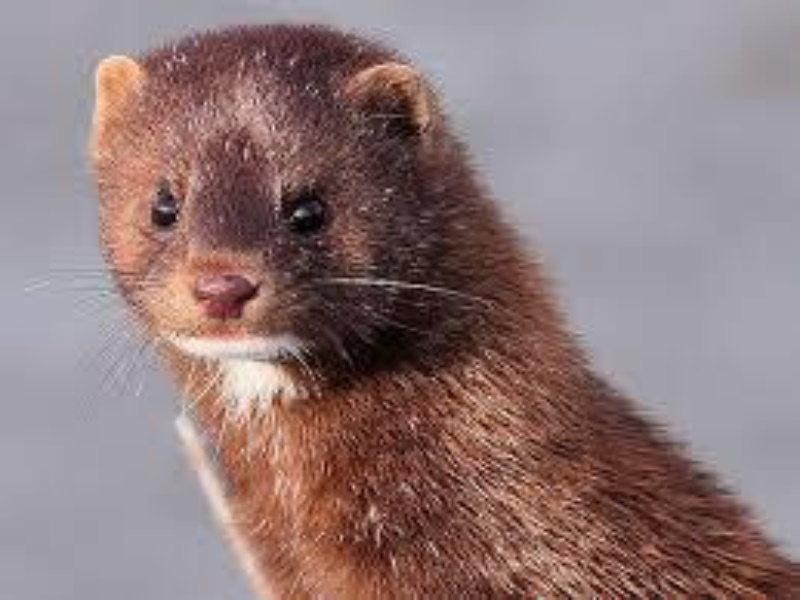minkish: (83, 20, 791, 596)
